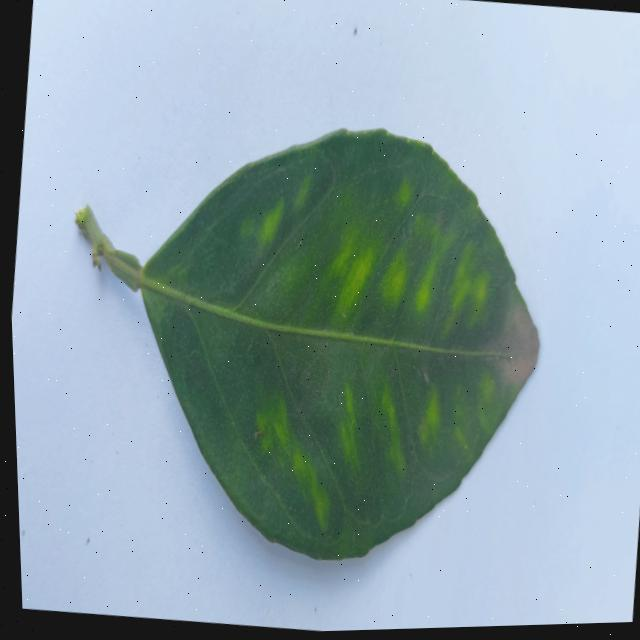greening: (74, 130, 537, 559)
